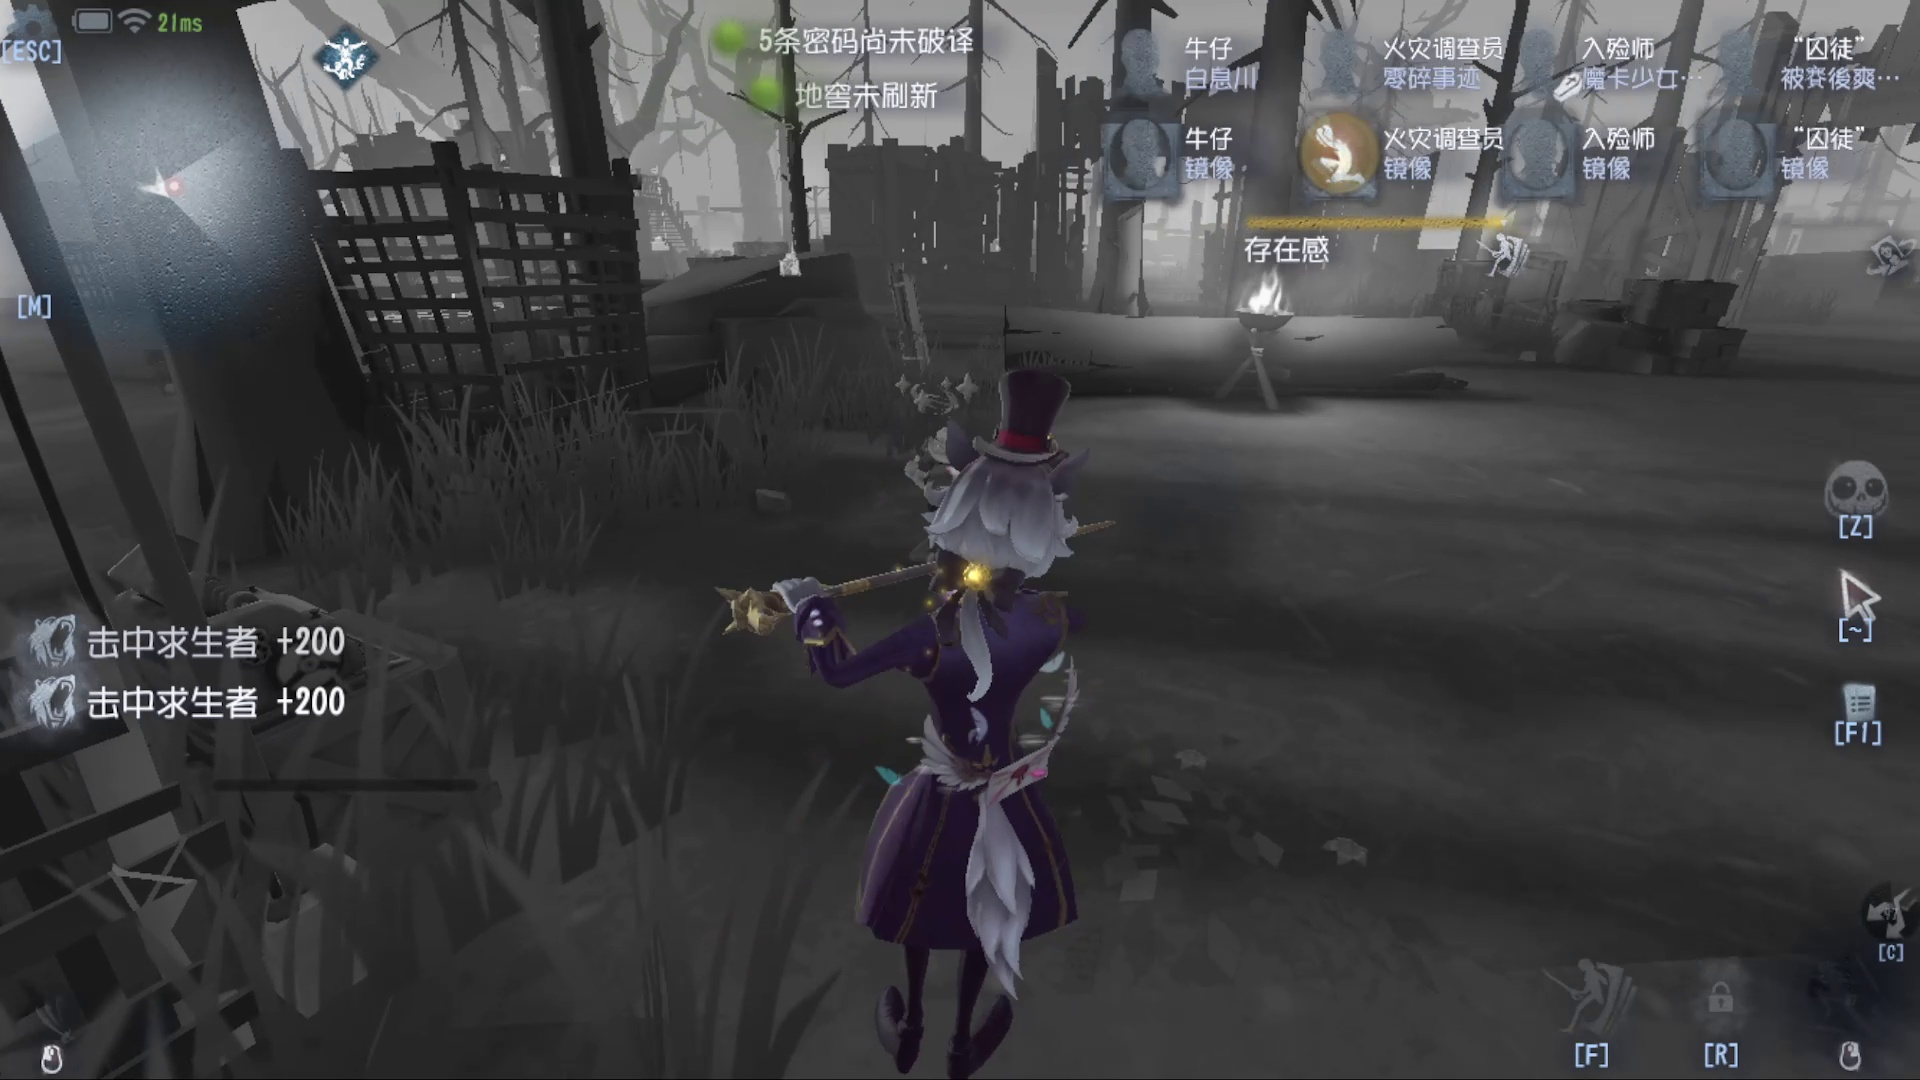密码机: (102, 547, 510, 873)
木板: (882, 276, 963, 381)
